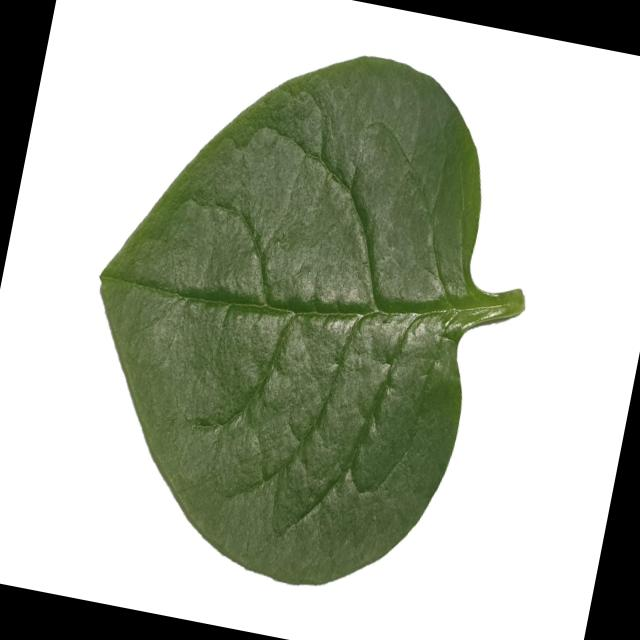Medicinal-Basale: (48, 8, 564, 620)
